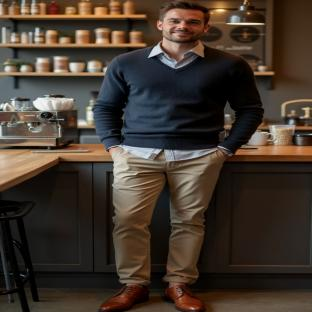Human: (94, 0, 263, 312)
